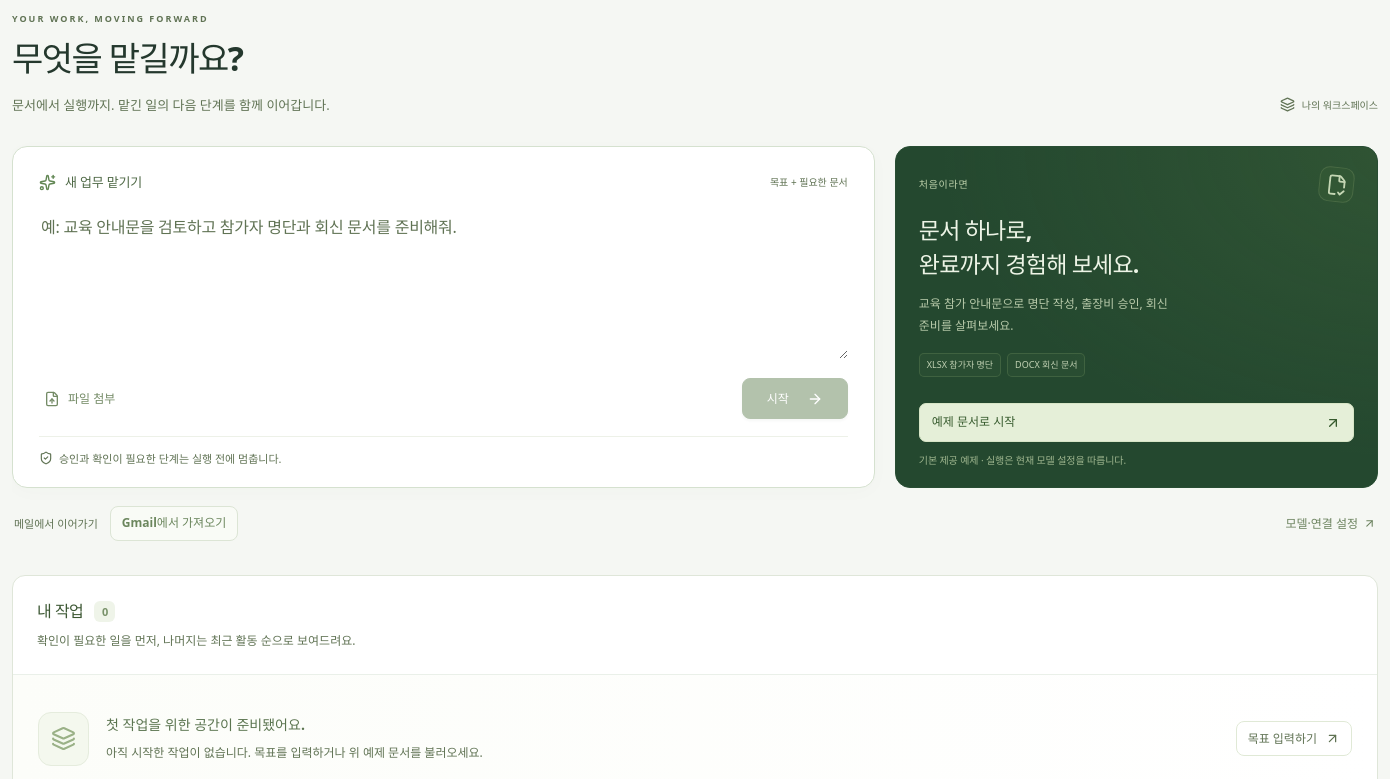
supported document sample › preserves the current draft if loading a sample fails
Type "내가 작성한 목표" into the text box named "새 업무 목표" at (443,286), box [39, 212, 848, 360]
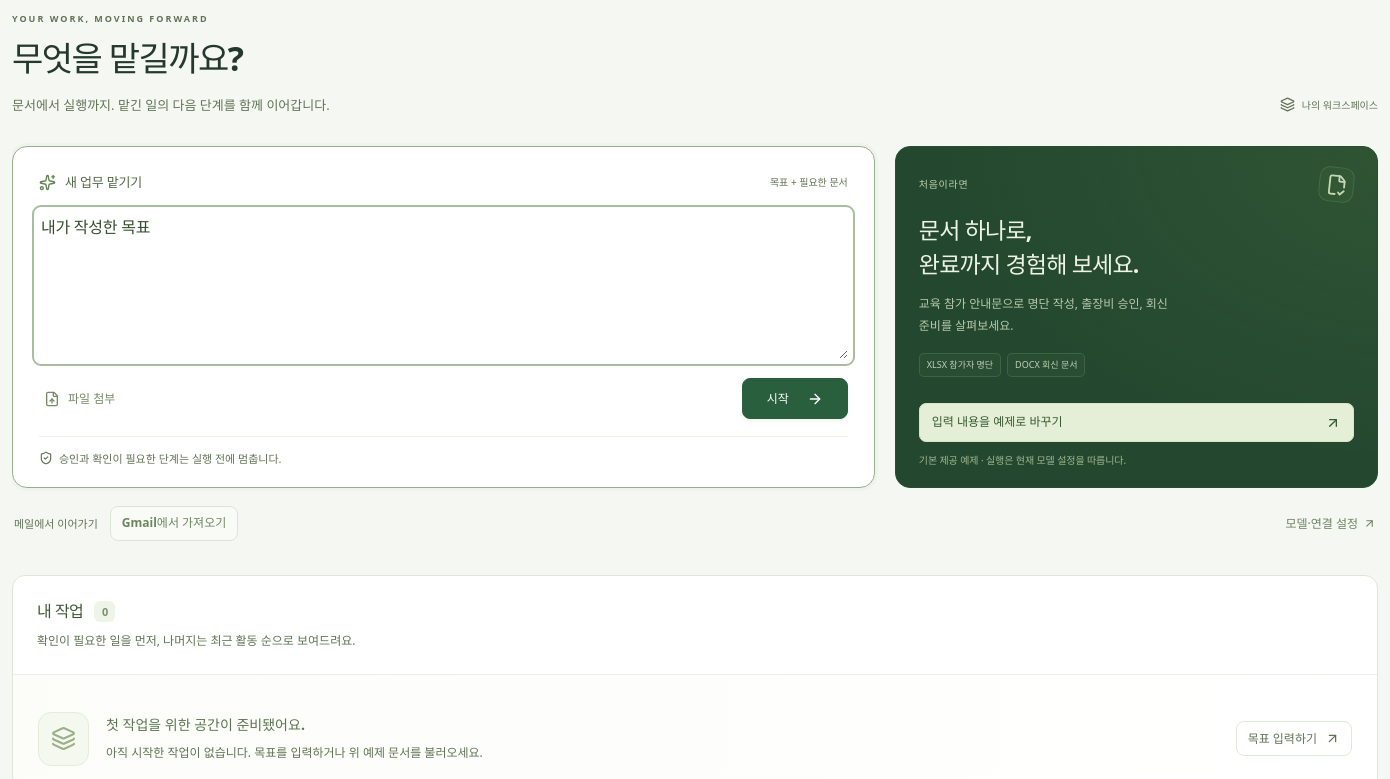
Click the button "입력 내용을 예제로 바꾸기" at (997,422), box [919, 403, 1354, 442]
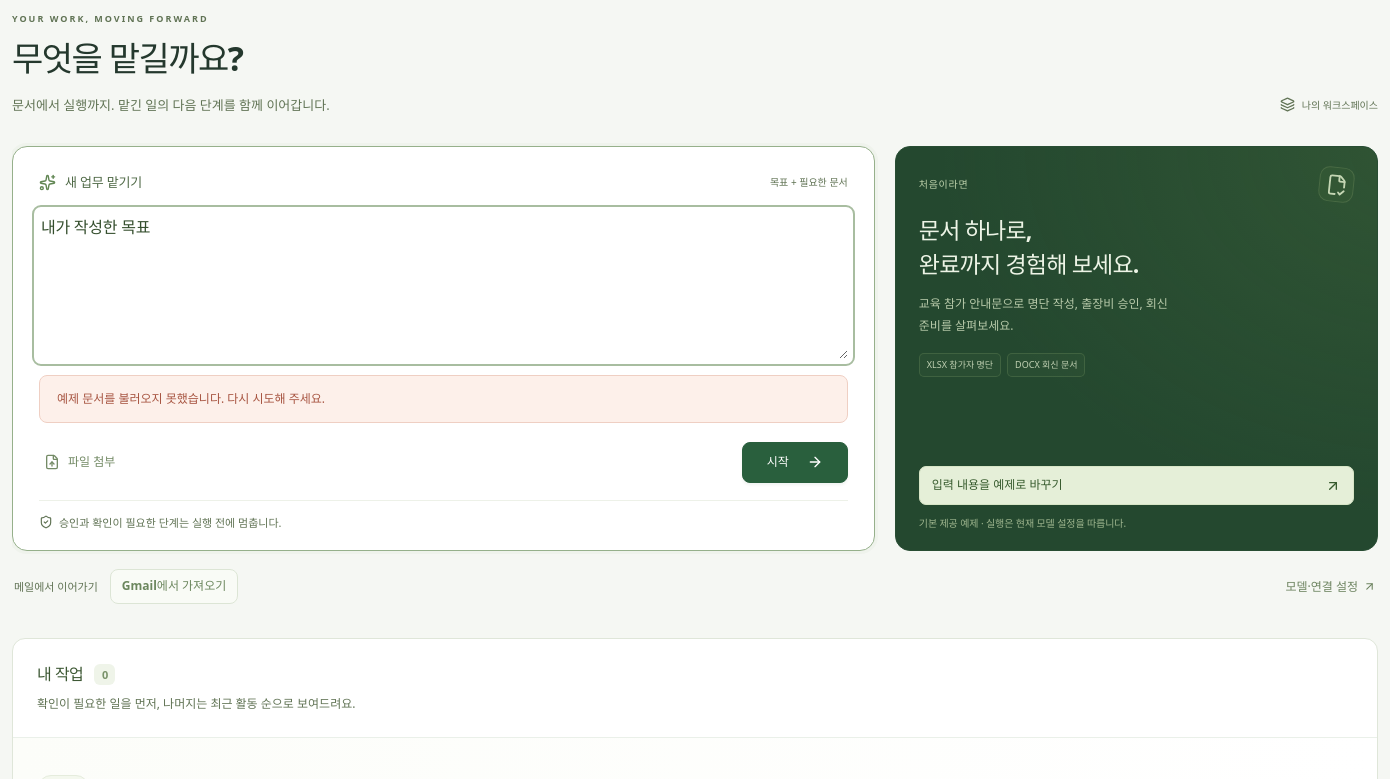
Expected: the message shows "예제 문서를 불러오지 못했습니다.", [57, 390, 325, 408]
